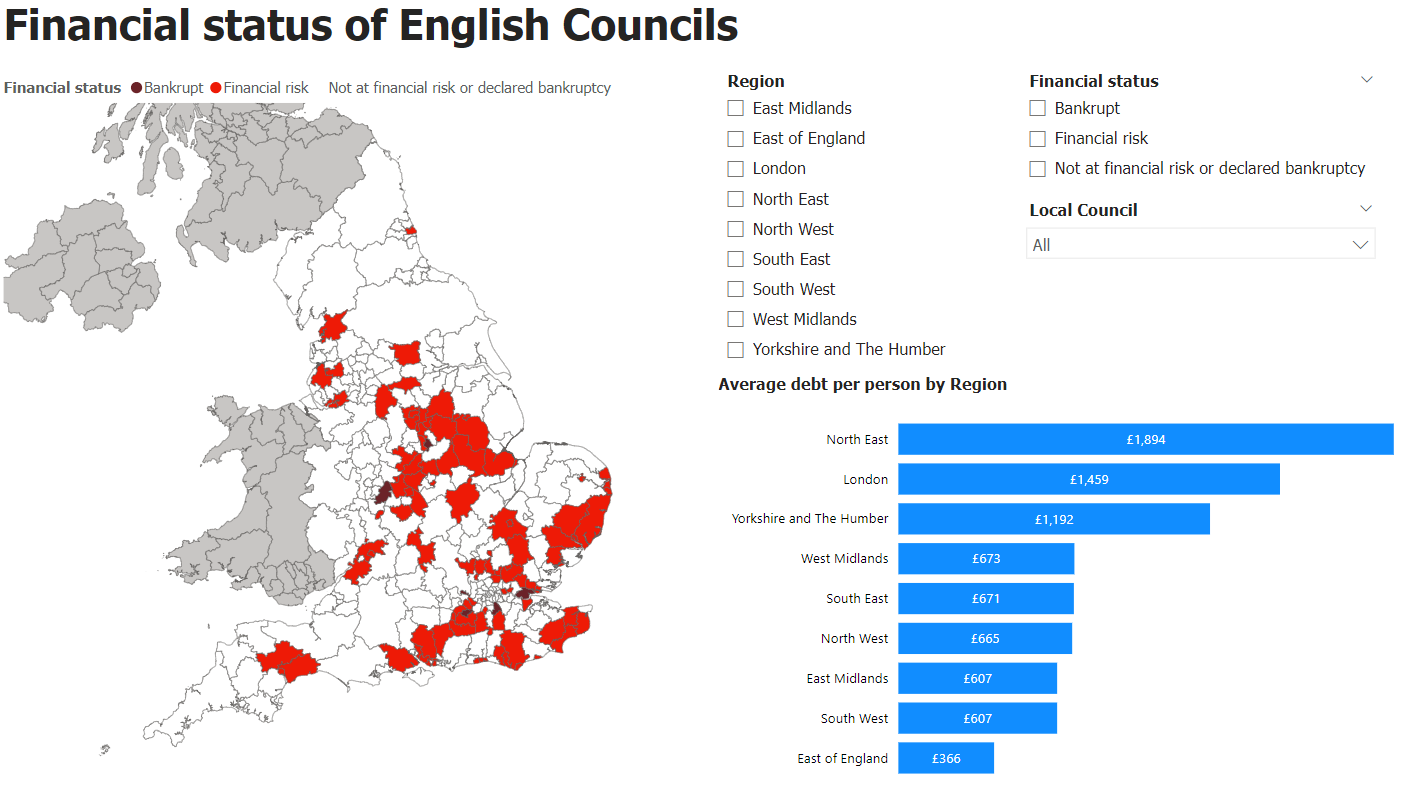

This screenshot's page, from the dashboard's own definition file:
{"tool":"powerbi","page":{"name":"Page 1","canvas":[1280,720],"ordinal":0},"visuals":[{"type":"shapeMap","fields":{"Category":["Councils and their financial st.LAD23NM"],"Series":["Councils and their financial st.Financial status"],"Value":["CountNonNull(Councils and their financial st.Financial status)"]},"box":[0,64.5,640.5,654.8],"z":0},{"type":"slicer","fields":{"Values":["Councils and their financial st.Region"]},"box":[640.5,64.5,270.1,276.3],"z":1000},{"type":"textbox","box":[0,0,1280,64.5],"z":2000},{"type":"barChart","title":"Average debt per person by Region","fields":{"Category":["Councils and their financial st.Region"],"Y":["Median(SDU - Council debt.Debt per person 2023-24 Q2 (£))"]},"box":[640.5,340.7,639.5,378.6],"z":3000},{"type":"slicer","fields":{"Values":["Councils and their financial st.Financial status"]},"box":[910.6,64.5,333.6,115.6],"z":4000},{"type":"slicer","fields":{"Values":["Councils and their financial st.LAD23NM"]},"box":[911,180,333,76.1],"z":5000}]}

Visuals, with their boxes in screenshot pixels (x1, y1, x2, y2), scaled from the page's 1280x720 canvas onto the 1418x789 screenshot:
shapeMap - Councils and their financial st.LAD23NM x Councils and their financial st.Financial status: [left=0, top=71, right=710, bottom=788]
slicer - Councils and their financial st.Region: [left=710, top=71, right=1009, bottom=373]
textbox: [left=0, top=0, right=1417, bottom=71]
"Average debt per person by Region" barChart: [left=710, top=373, right=1417, bottom=788]
slicer - Councils and their financial st.Financial status: [left=1009, top=71, right=1378, bottom=197]
slicer - Councils and their financial st.LAD23NM: [left=1009, top=197, right=1378, bottom=281]
